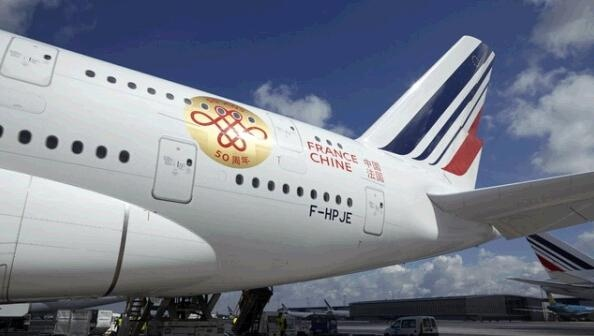airplane: (1, 33, 590, 311)
